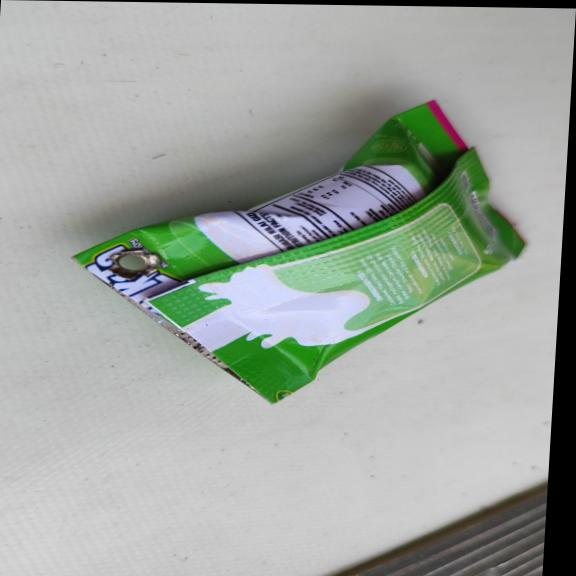Plastik: (62, 94, 536, 411)
